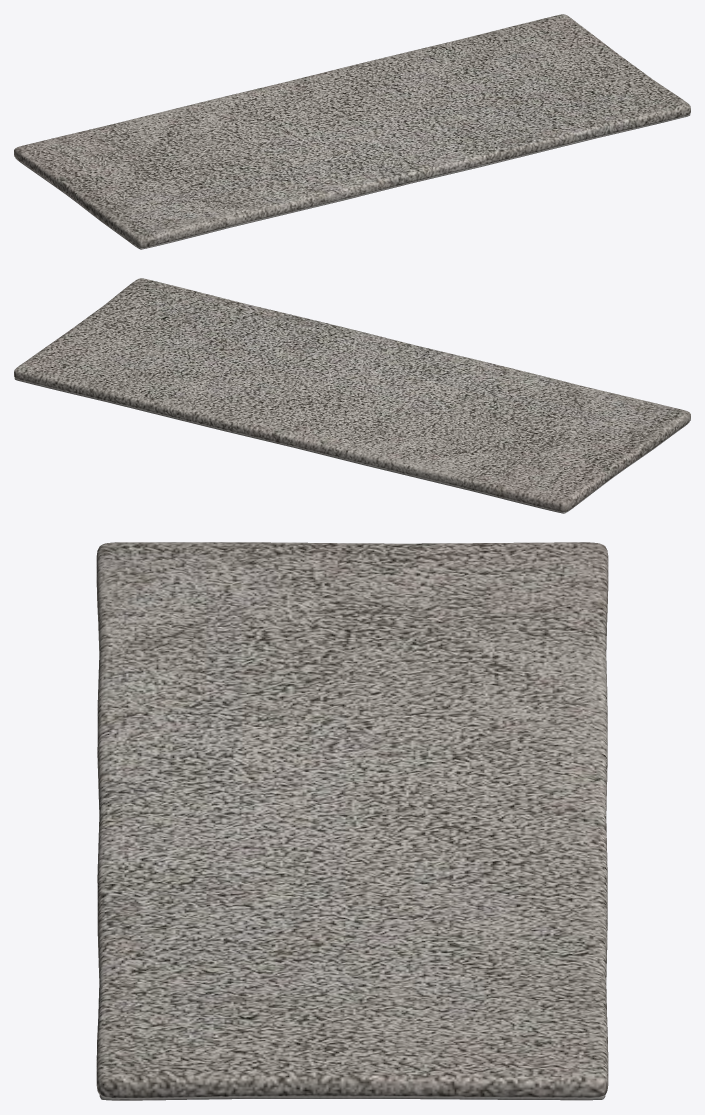
Rendered from B07TVD3Z5Q.glb.
3 views of the same model, one above another, from view 1: azimuth 30°, elevation 25°; view 2: azimuth 150°, elevation 25°; view 3: azimuth 270°, elevation 25° (orthographic). The views are drawn at different scales.
Parts seen in each view (by area): view 1: RootNode; view 2: RootNode; view 3: RootNode.
Boxes of the visible parts, x1=… form: RootNode: x1=14, y1=14, x2=690, y2=249; RootNode: x1=14, y1=278, x2=690, y2=513; RootNode: x1=96, y1=542, x2=608, y2=1100.
Size of the model in its own units: 1.52 by 0.0303 by 0.6092.
Materials: 1 (1 with a texture image).
